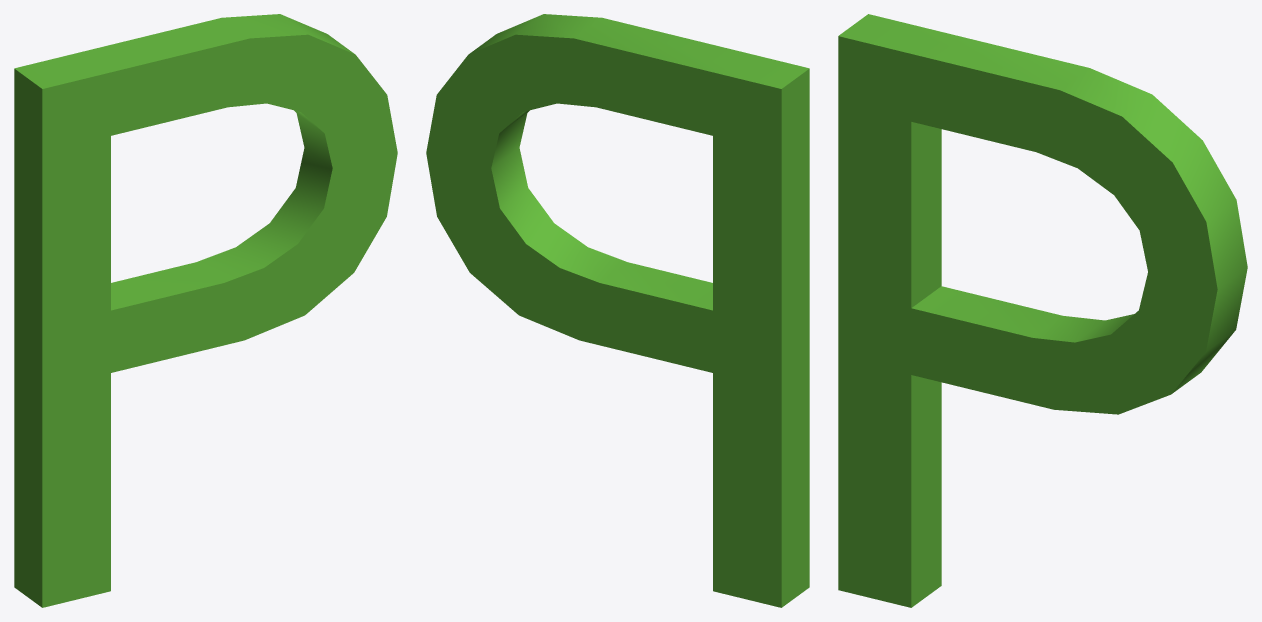
File: letras.obj
3 renders of one model, left to right at view 1: azimuth 30°, elevation 25°; view 2: azimuth 150°, elevation 25°; view 3: azimuth 330°, elevation 25°, orthographic. The views are drawn at different scales.
Parts seen in each view (by area): view 1: P; view 2: P; view 3: P.
Boxes of the visible parts, bbox=[...] form: P: bbox=[14, 14, 397, 607]; P: bbox=[426, 14, 809, 607]; P: bbox=[838, 14, 1247, 607].
Size of the model in its own units: 0.726 by 1.01 by 0.1.
